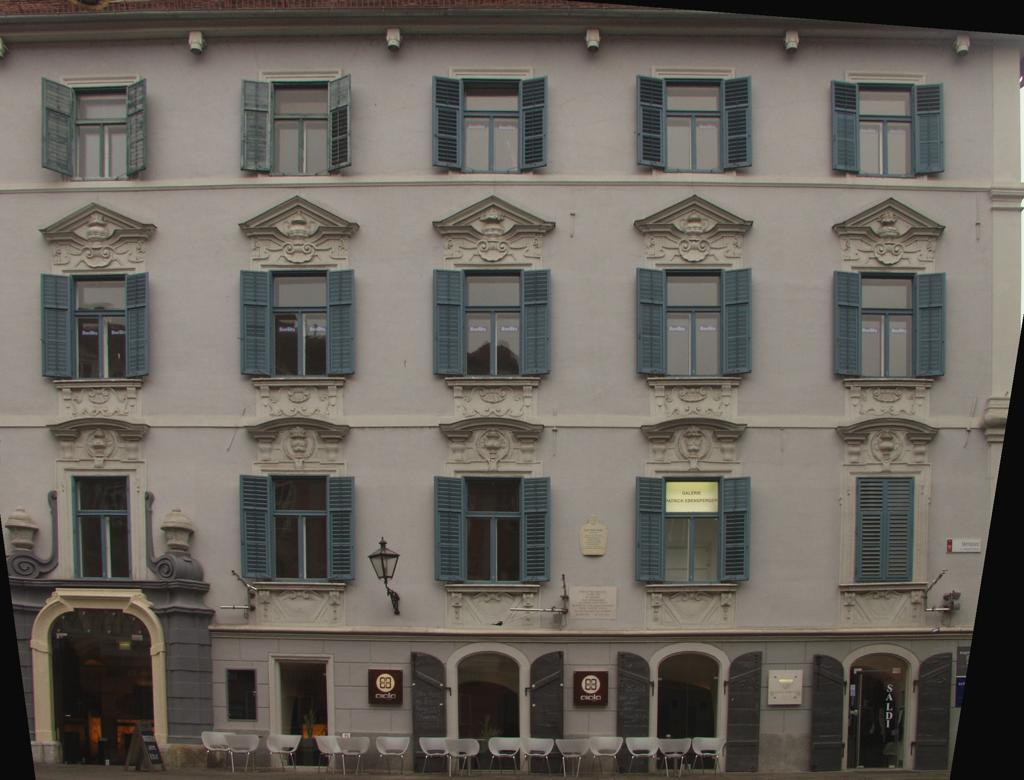window: (458, 651, 522, 771), (656, 651, 720, 771), (267, 474, 332, 584), (462, 478, 527, 586), (659, 476, 724, 584), (858, 273, 917, 380), (663, 270, 722, 377), (463, 270, 522, 376), (69, 275, 128, 381), (270, 271, 329, 377), (856, 476, 913, 584), (74, 477, 131, 580), (73, 88, 132, 181), (271, 82, 330, 175), (462, 79, 521, 172), (664, 80, 723, 173), (857, 86, 916, 179), (280, 662, 329, 767), (228, 669, 257, 720)
